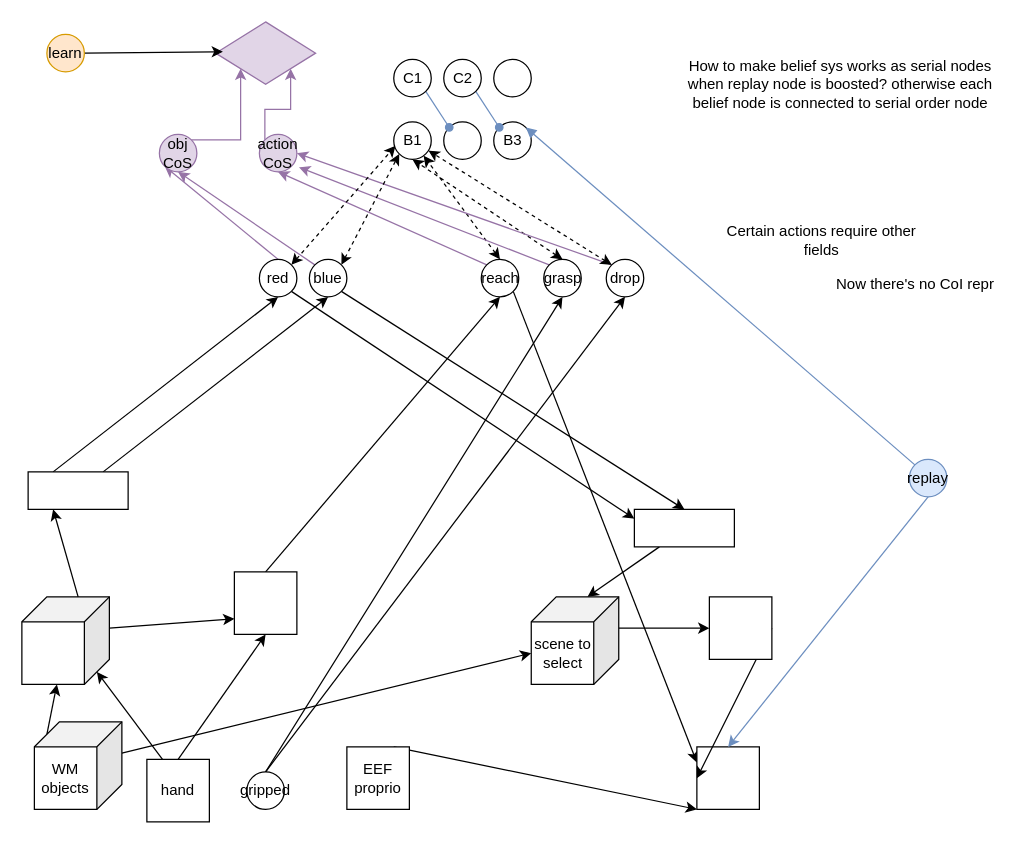
Some shapes in this 1019 by 844 pixel diagram are drawn without their labels. Here are the shapes that lost their labels. From the top down, the centre of each, then its label:
At [265,52]: "reward".
At [511,77]: "C3".
At [461,140]: "B2".
At [77,490]: "obj color".
At [683,527]: "target color".
At [265,602]: "match".
At [65,640]: "select objects".
At [740,627]: "target obj".
At [727,777]: "EEF centered obj".
